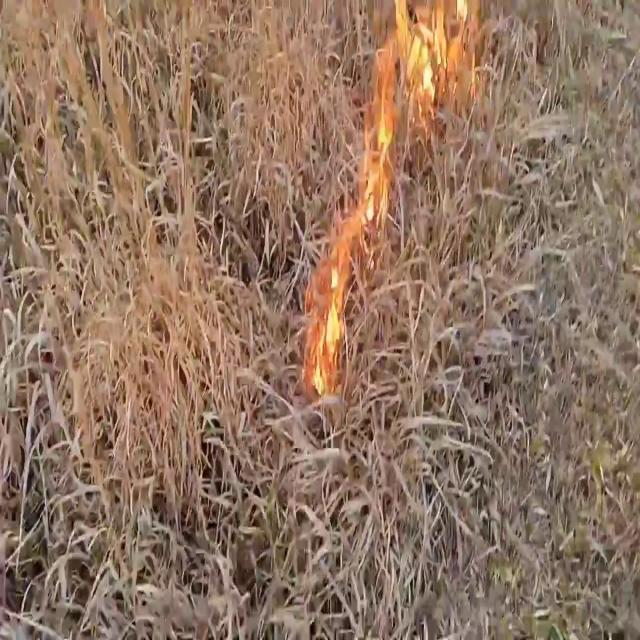Fire: (308, 3, 412, 397), (363, 1, 483, 228), (310, 242, 348, 399)
